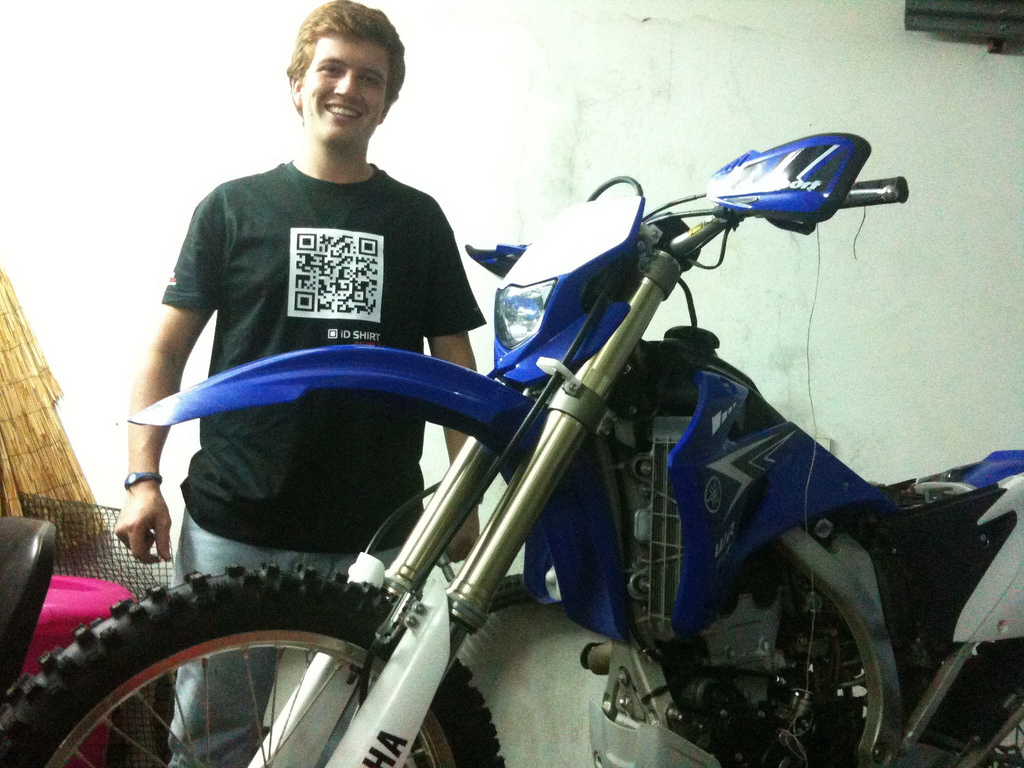QR-CODE: (294, 233, 377, 315)
